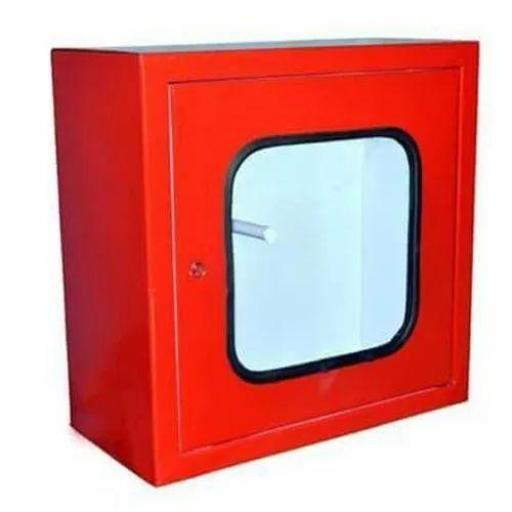fire_hose: (41, 39, 490, 487)
